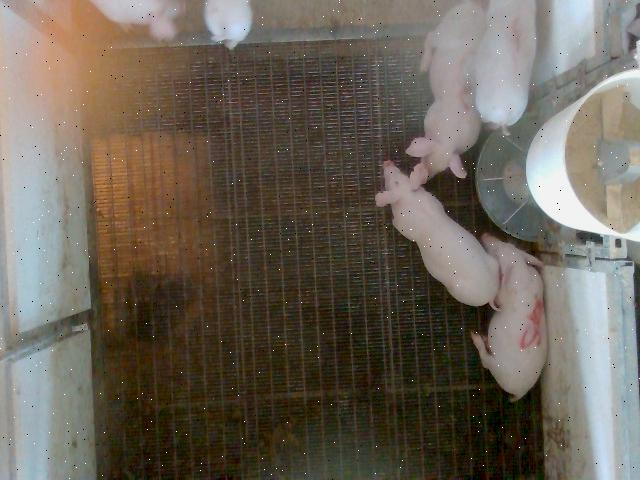pig-1: (475, 1, 536, 135)
pig-3: (406, 2, 485, 178)
pig-5: (471, 234, 546, 400)
